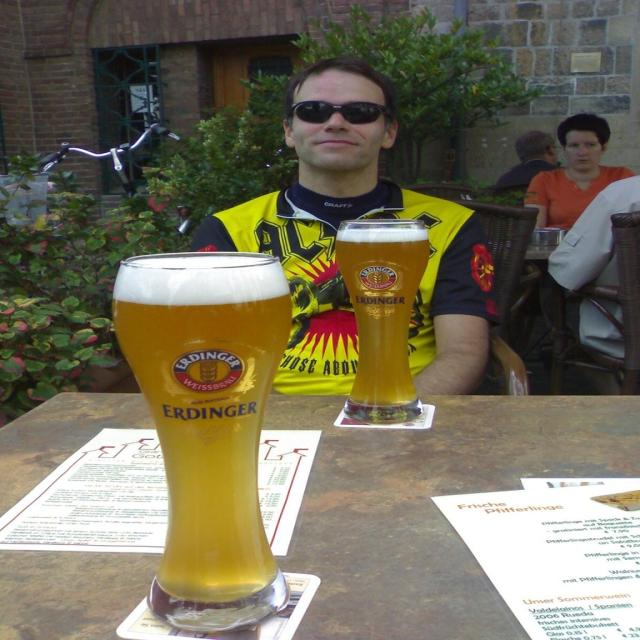erdinger: (151, 334, 273, 423), (347, 259, 413, 308)
